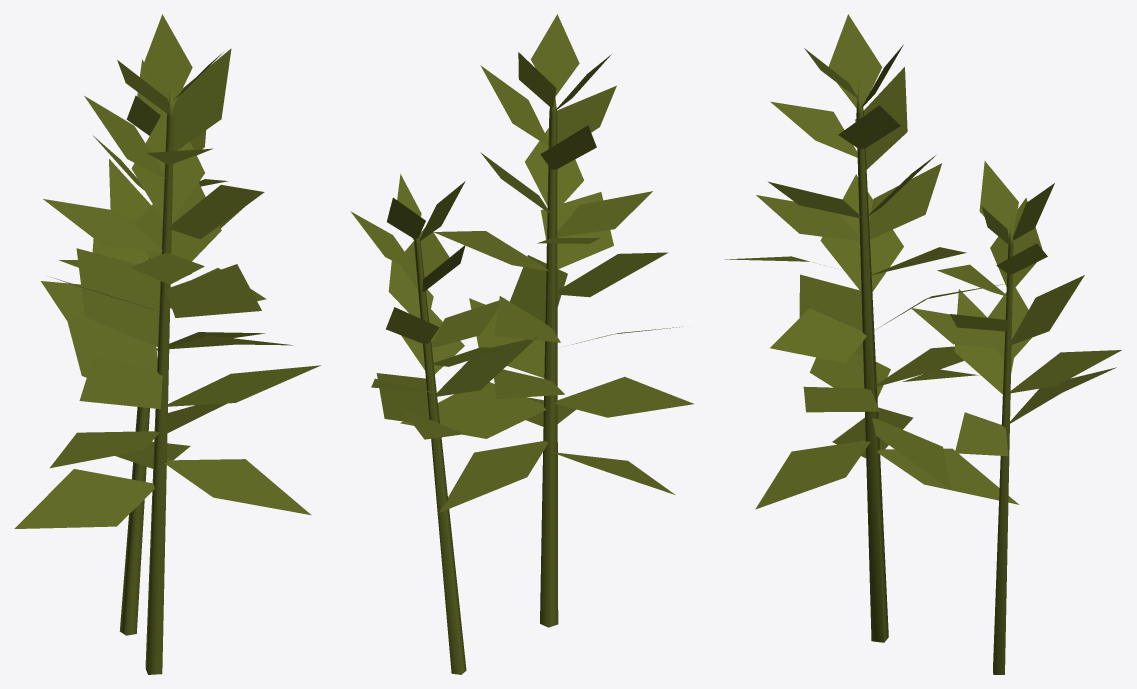
The model's file is Plant_03_LOD1.fbx.
The picture shows the model from 3 angles, left to right: view 1: azimuth 30°, elevation 25°; view 2: azimuth 150°, elevation 25°; view 3: azimuth 270°, elevation 25°; orthographic projection. The views are drawn at different scales.
Visible parts, largest first — view 1: polySurface46; view 2: polySurface46; view 3: polySurface46.
Part boxes in pixels (x1,y1,x2,y2): polySurface46: (14,14,320,674); polySurface46: (350,14,693,674); polySurface46: (724,14,1121,674).
Bounding box in the file's own units: 116 × 248 × 145.
